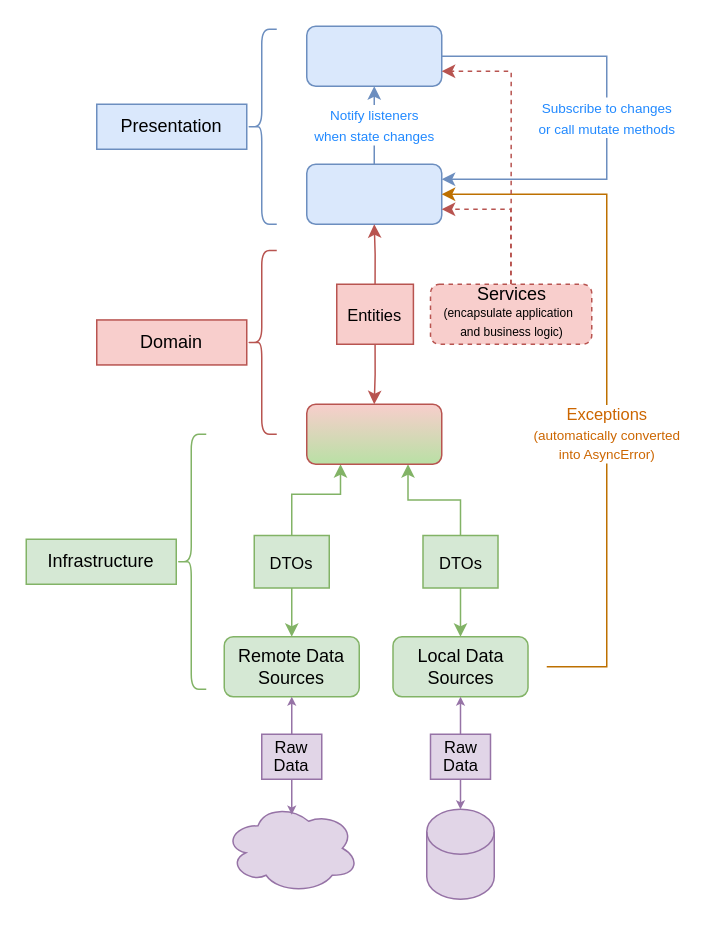
The diagram is 707 pixels wide and 926 high, and some of its shapes have lost their labels. The centre of each missing label's shape, as x and y in pixels:
"API" goes at [291,847].
"Local DB" goes at [459,853].
"Providers (have observable state used by the view)" goes at [373,193].
"Repositories" goes at [373,433].
"Widgets" goes at [373,55].
